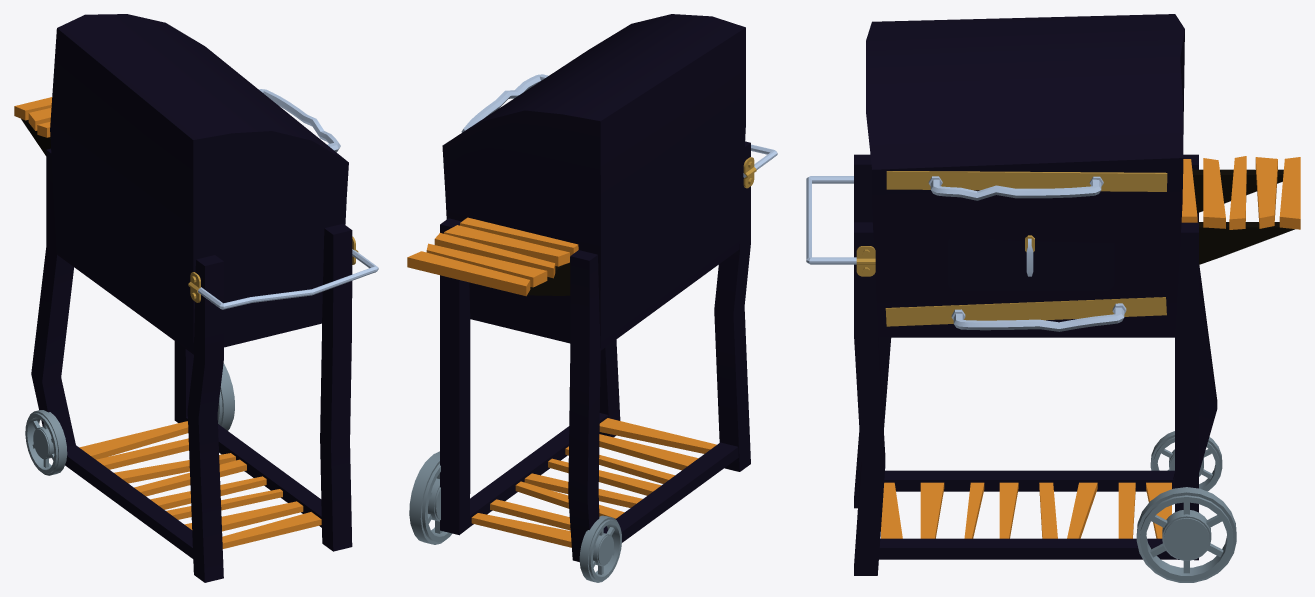
File: Grill.fbx
3 renders of one model, left to right at view 1: azimuth 30°, elevation 25°; view 2: azimuth 150°, elevation 25°; view 3: azimuth 270°, elevation 25°, orthographic. The views are drawn at different scales.
Visible parts, largest first — view 1: Grill, GrillWood, Wheels.001, Handle, TableWood, FrontHandleTop.001, Wheels; view 2: Grill, GrillWood, TableWood, Wheels, Wheels.001, Table, FrontHandleTop.001; view 3: Grill, GrillWood, Wheels, TableWood, FrontHandleBottom, FrontHandleTop, Table, FrontHandleTop.001, FrontHandleBottom.001, Wheels.001, Handle.
Part boxes in pixels (x1,y1,x2,y2): Grill: [31, 14, 352, 582]; GrillWood: [79, 421, 321, 548]; Wheels.001: [25, 410, 67, 475]; Handle: [198, 249, 378, 309]; TableWood: [14, 97, 52, 137]; FrontHandleTop.001: [259, 89, 340, 151]; Wheels: [217, 363, 234, 430]; Grill: [440, 14, 750, 561]; GrillWood: [471, 418, 716, 547]; TableWood: [407, 217, 578, 296]; Wheels: [409, 451, 452, 544]; Wheels.001: [579, 515, 621, 582]; Table: [527, 257, 570, 295]; FrontHandleTop.001: [461, 74, 548, 132]; Grill: [854, 14, 1217, 575]; GrillWood: [881, 482, 1171, 538]; Wheels: [1136, 487, 1236, 582]; TableWood: [1181, 156, 1300, 229]; FrontHandleBottom: [885, 297, 1166, 326]; FrontHandleTop: [886, 171, 1167, 191]; Table: [1192, 169, 1294, 264]; FrontHandleTop.001: [928, 176, 1103, 200]; FrontHandleBottom.001: [951, 303, 1126, 331]; Wheels.001: [1150, 431, 1222, 491]; Handle: [806, 176, 856, 264].
Size of the model in its own units: 52 by 117 by 108.
